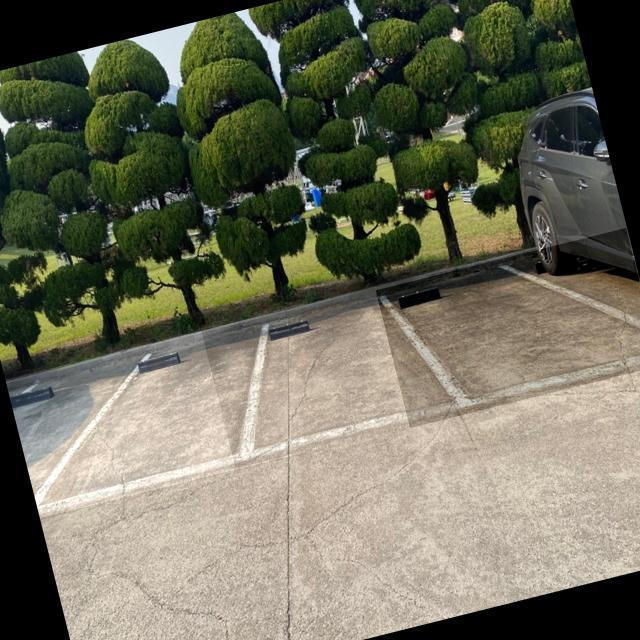empty: (34, 314, 271, 518), (236, 292, 479, 468), (378, 257, 640, 414)
